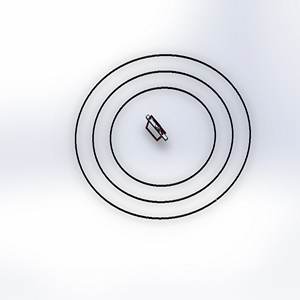circle: (70, 50, 258, 223)
submarine: (137, 107, 177, 154)
